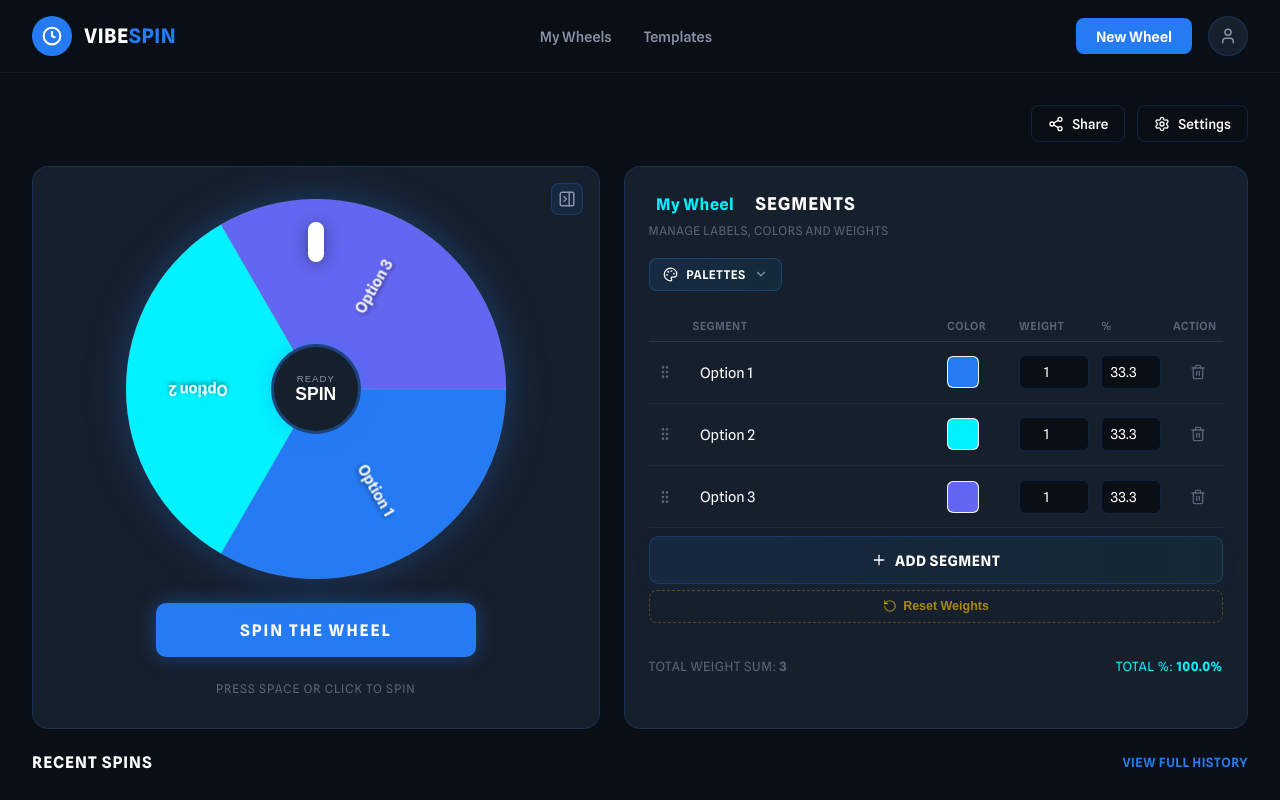
Test case: Settings modal › Export All › Export All button is visible in the Settings modal
What coordinates should you click on to do the following:
click the button "Settings"
I would click on:
 (1193, 124)
Its box is x1=1137 y1=105 x2=1248 y2=142.
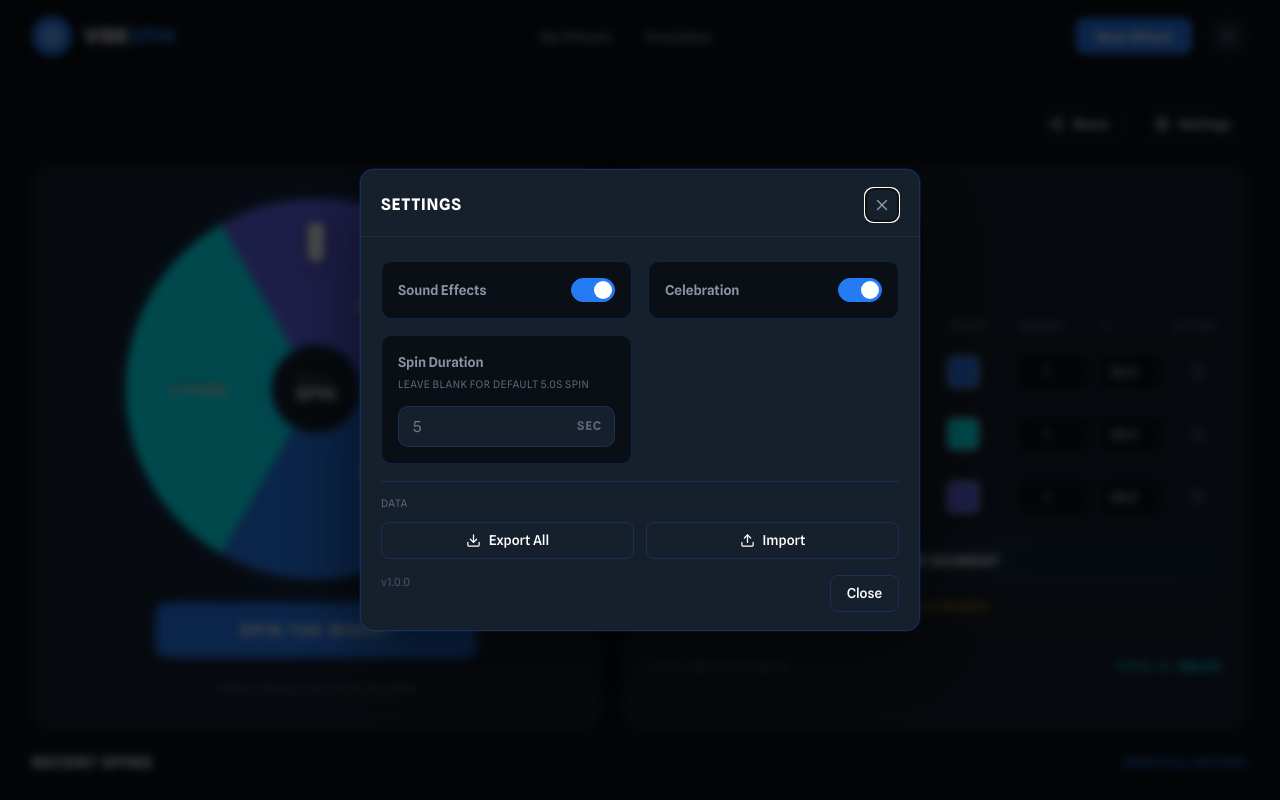
Now the dialog "Settings" is shown, box x1=360 y1=169 x2=920 y2=631
Now the button "Export All" is shown, box x1=381 y1=522 x2=634 y2=559
